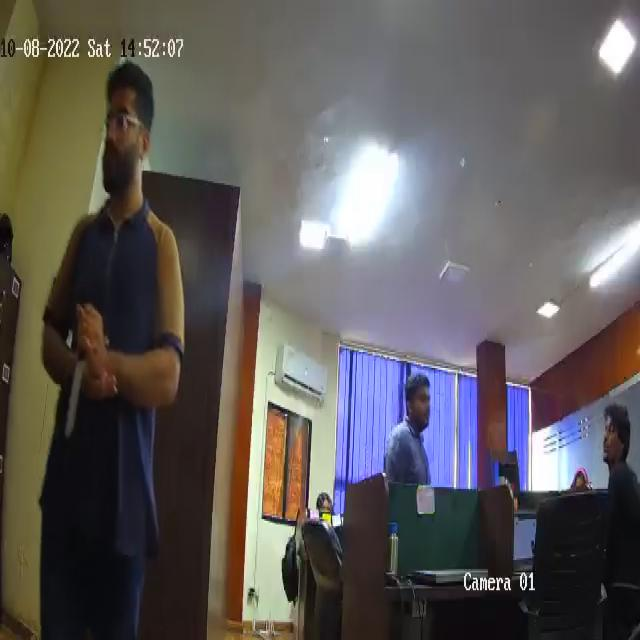weapon: (62, 332, 88, 442)
